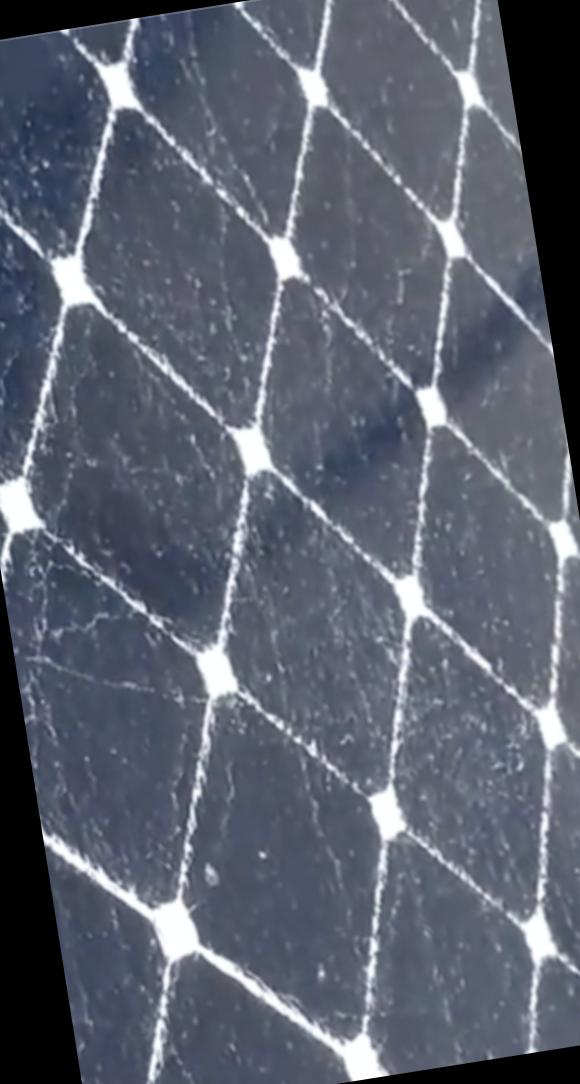Crack: (1, 511, 168, 808)
